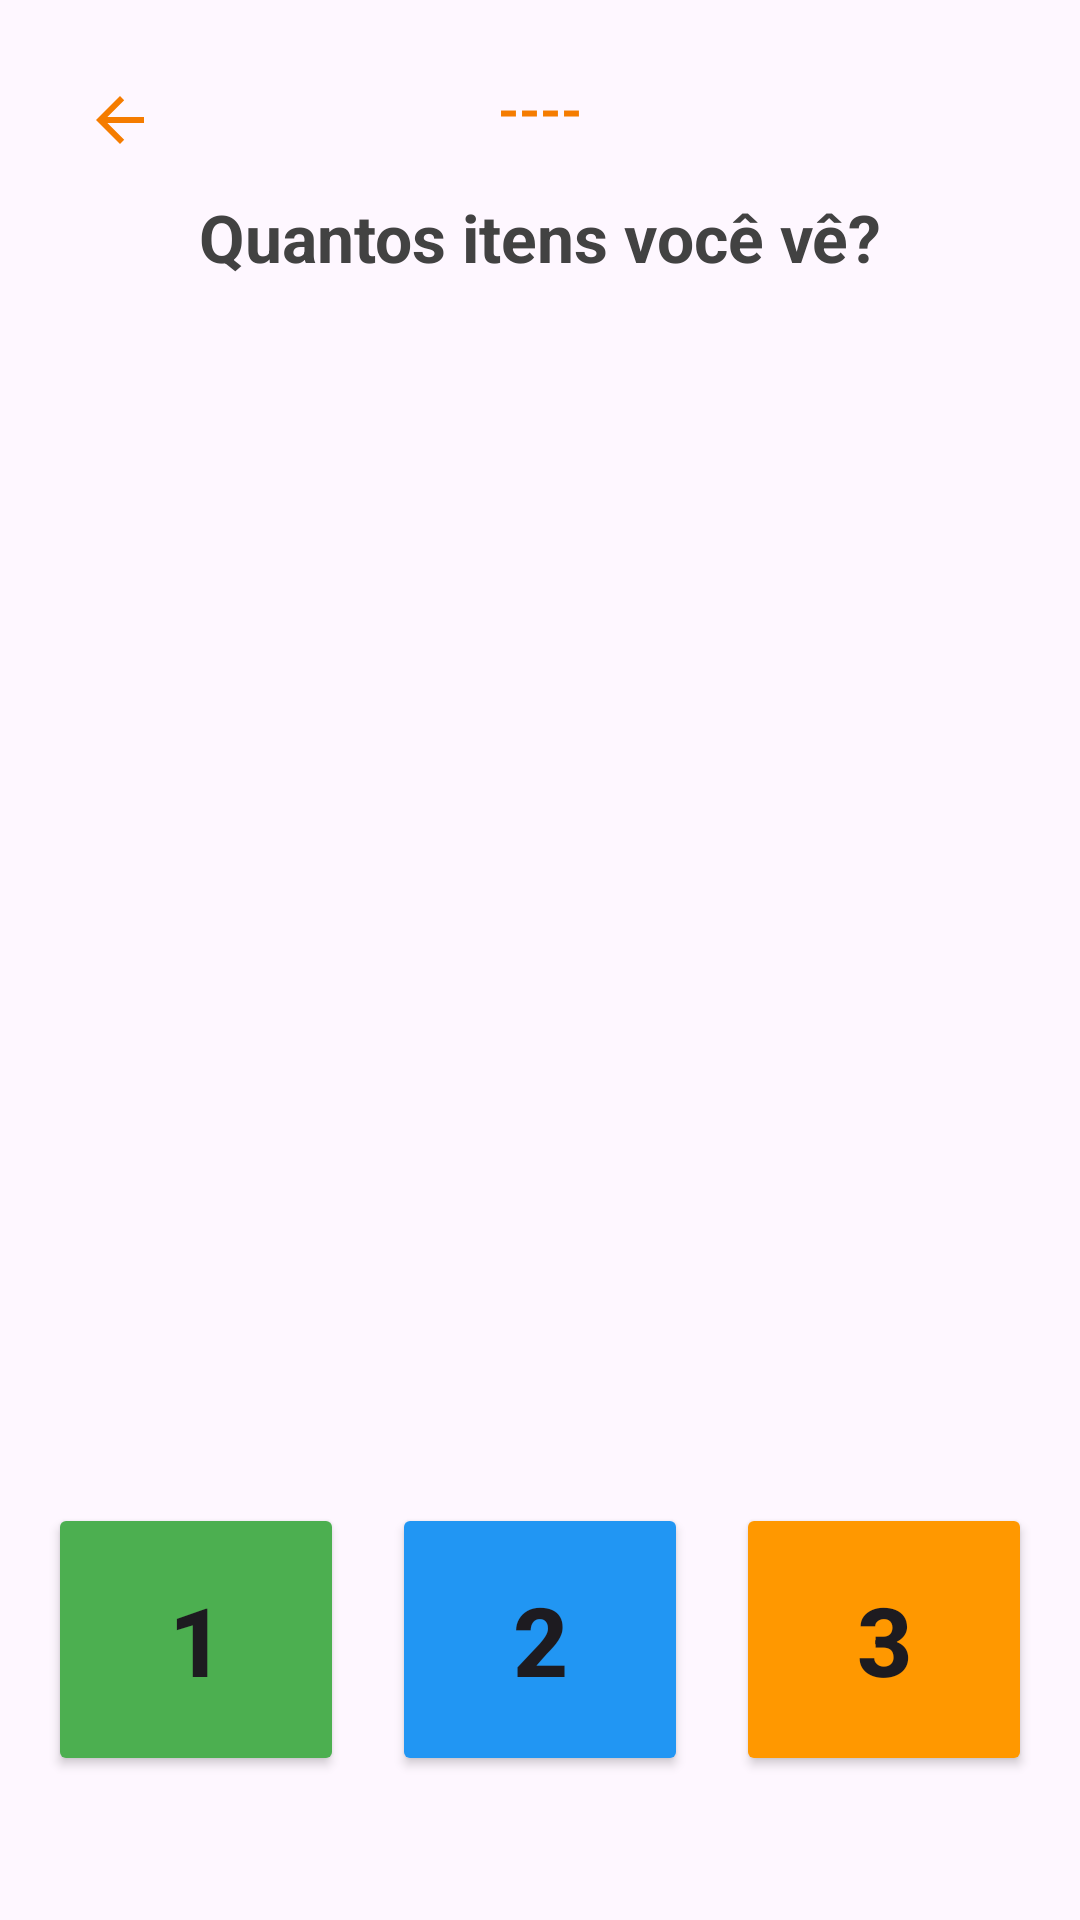

Locate icon controls on the screen. Image size 1080×1920, boxes as (x1, y1, x2, y2).
Voltar ao menu: (96, 96, 144, 144)
